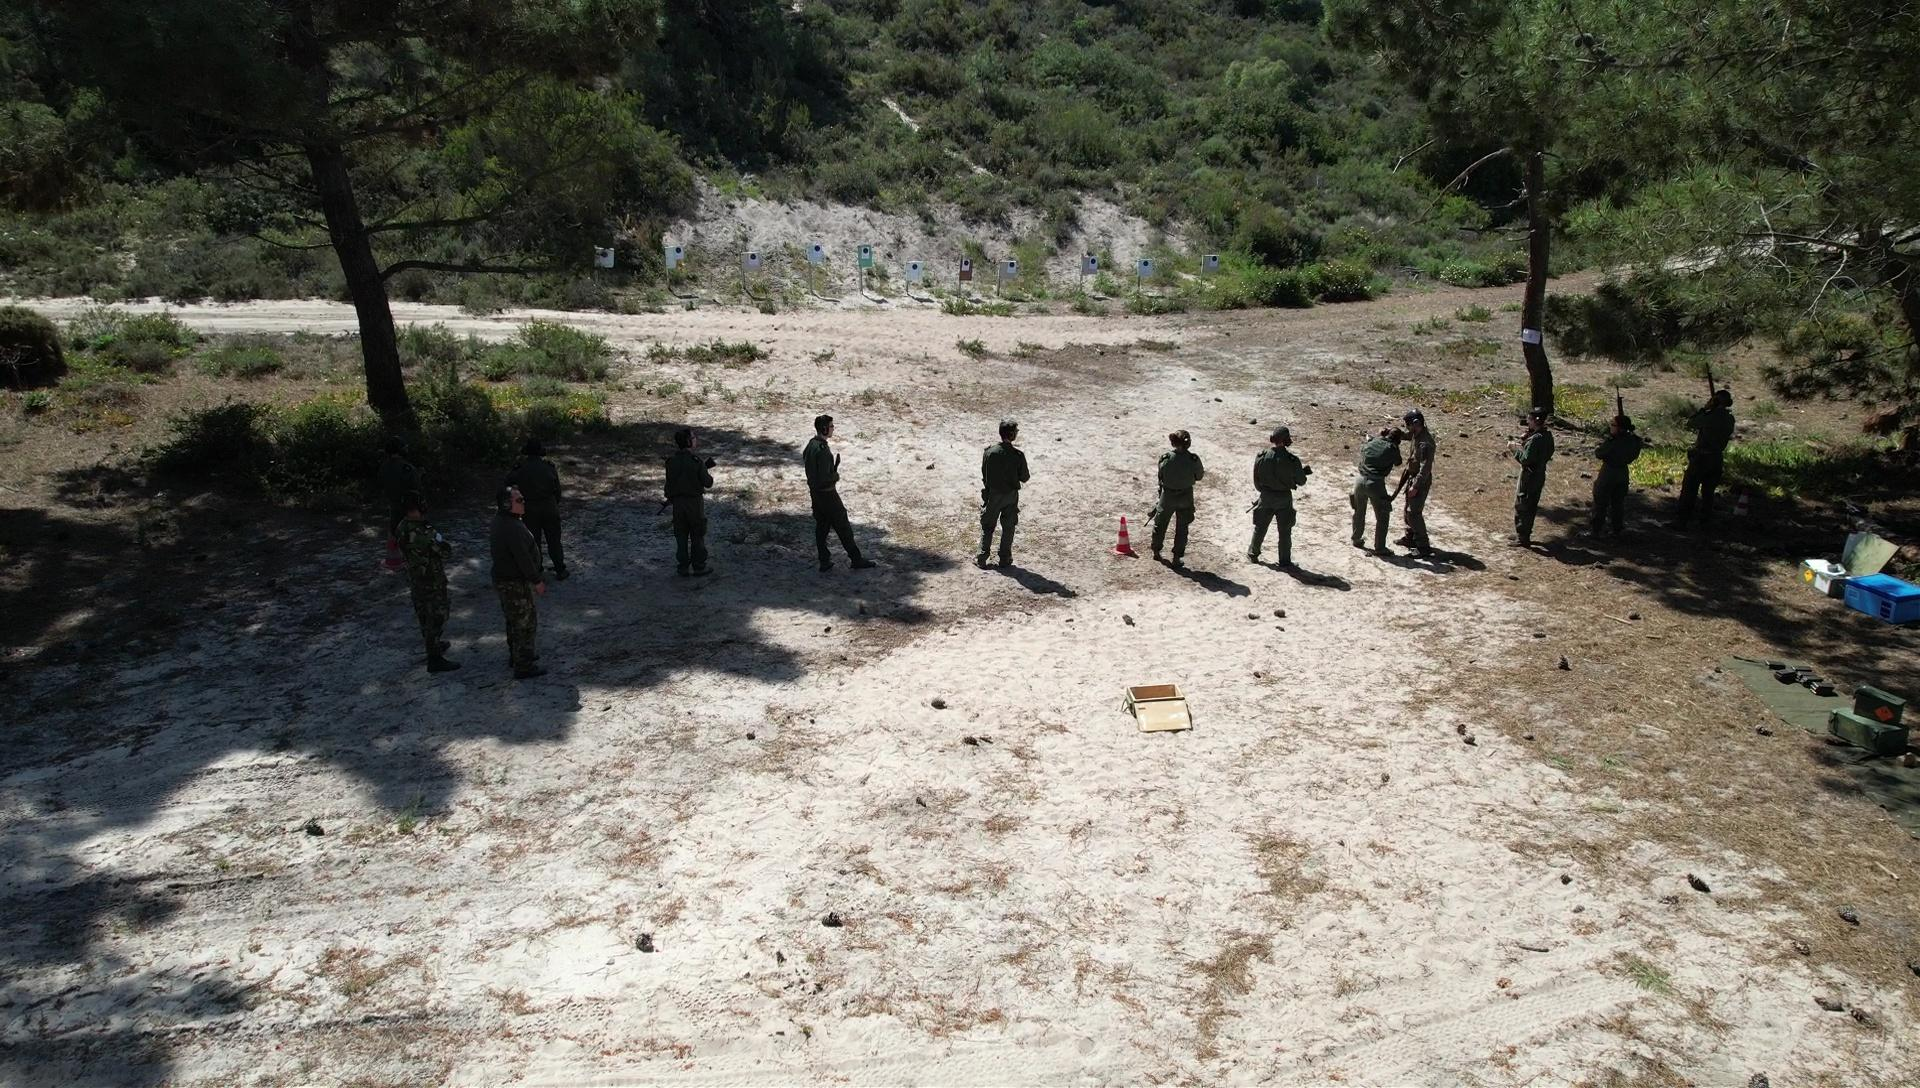Soldier: (480, 477, 572, 644), (400, 522, 487, 692), (967, 425, 1039, 572), (653, 431, 725, 578), (1242, 425, 1315, 566), (1342, 415, 1412, 562), (1505, 396, 1564, 553), (502, 431, 568, 554), (1149, 426, 1207, 564), (1592, 426, 1640, 560), (1390, 405, 1440, 531), (803, 448, 853, 566), (1683, 437, 1721, 566), (371, 437, 425, 524)
